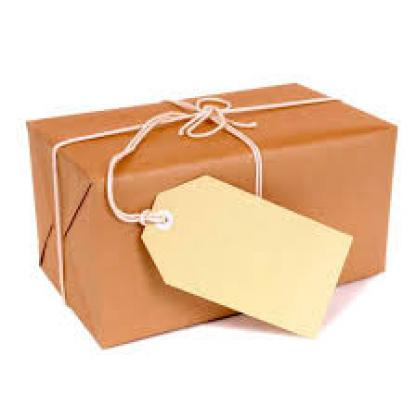paquete: (19, 68, 403, 355)
